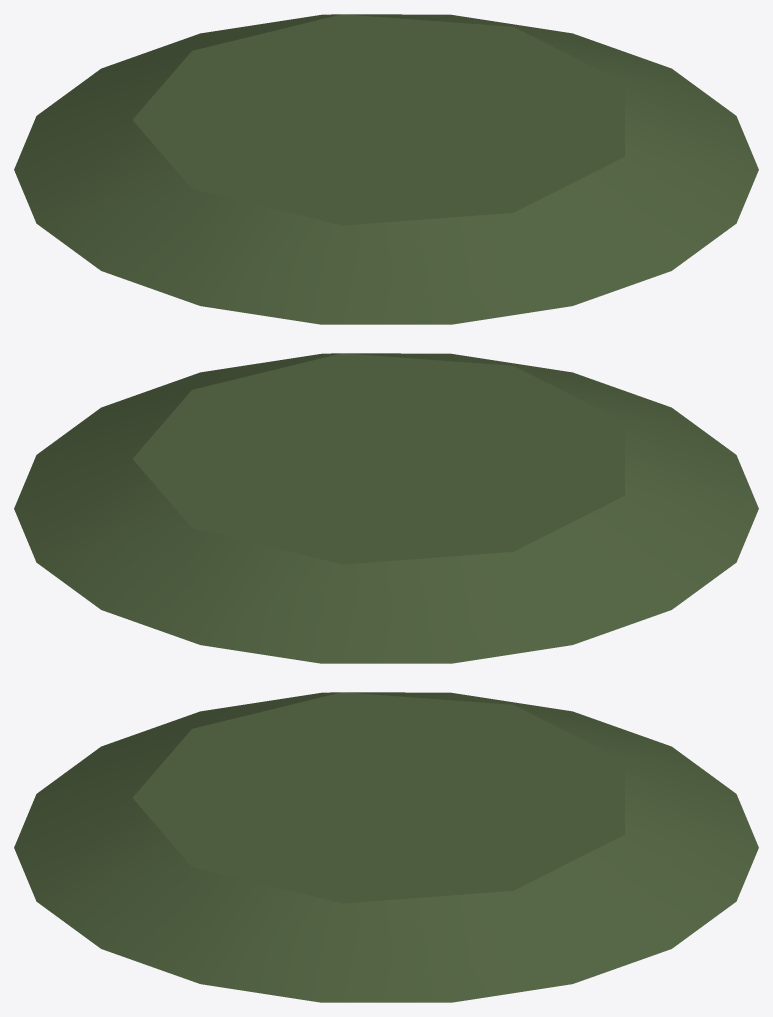
File: root-mound.low.glb
The picture shows the model from 3 angles, top to bottom: view 1: azimuth 30°, elevation 25°; view 2: azimuth 150°, elevation 25°; view 3: azimuth 270°, elevation 25°; orthographic projection.
Parts seen in each view (by area): view 1: Root Mound; view 2: Root Mound; view 3: Root Mound.
Boxes of the visible parts, bbox=[...] form: Root Mound: bbox=[14, 14, 758, 324]; Root Mound: bbox=[14, 353, 758, 663]; Root Mound: bbox=[14, 692, 758, 1002].
Bounding box in the file's own units: 173 × 13 × 176.
